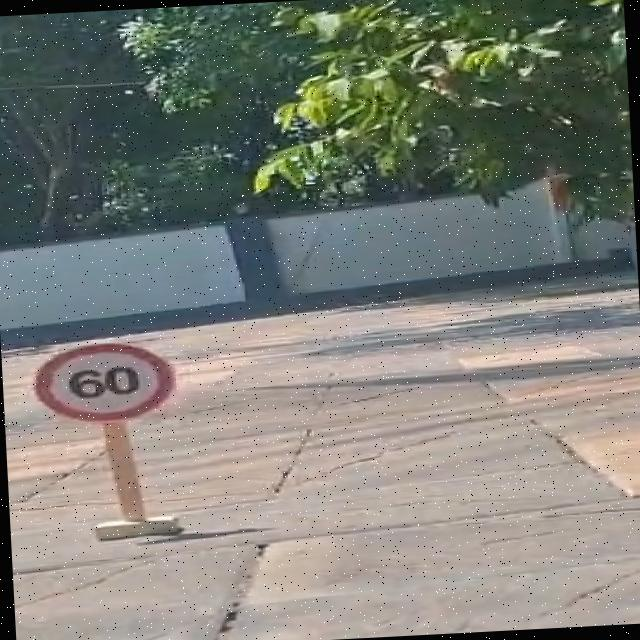Speed60: (29, 336, 184, 429)
